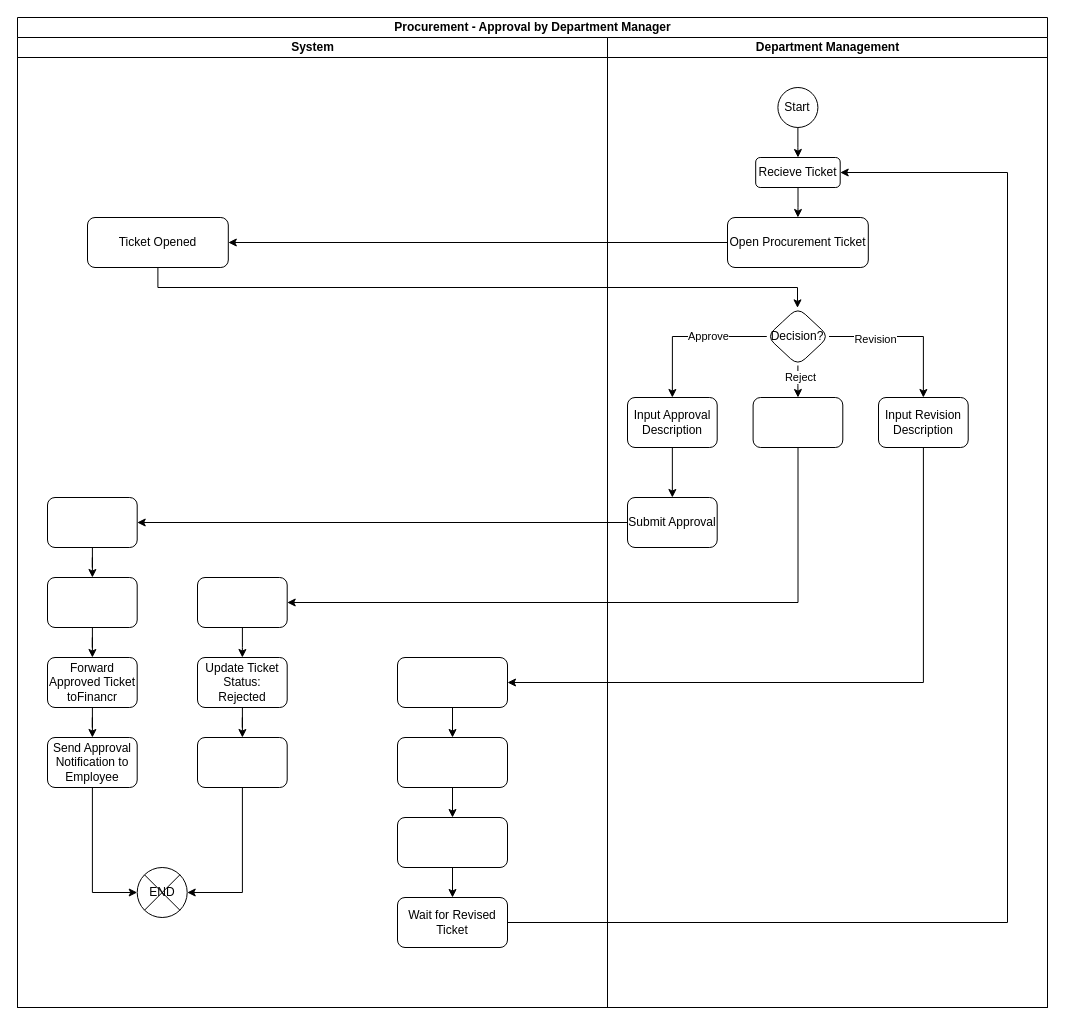
The diagram is 1065 pixels wide and 1025 high, and some of its shapes have lost their labels. Each missing label, with the centre of its shape:
"Input Rejection Description" belongs at [797,422].
"Save Approval Description" belongs at [91,522].
"Save Rejection Description" belongs at [241,602].
"Save Revision Description" belongs at [452,682].
"Send Rejection Email toEmployee" belongs at [241,762].
"Send Revision Notification toEmployee" belongs at [452,762].
"Update Ticket Status: RevisionRequired" belongs at [452,842].
"Update Ticket Status:Approved" belongs at [91,602].
